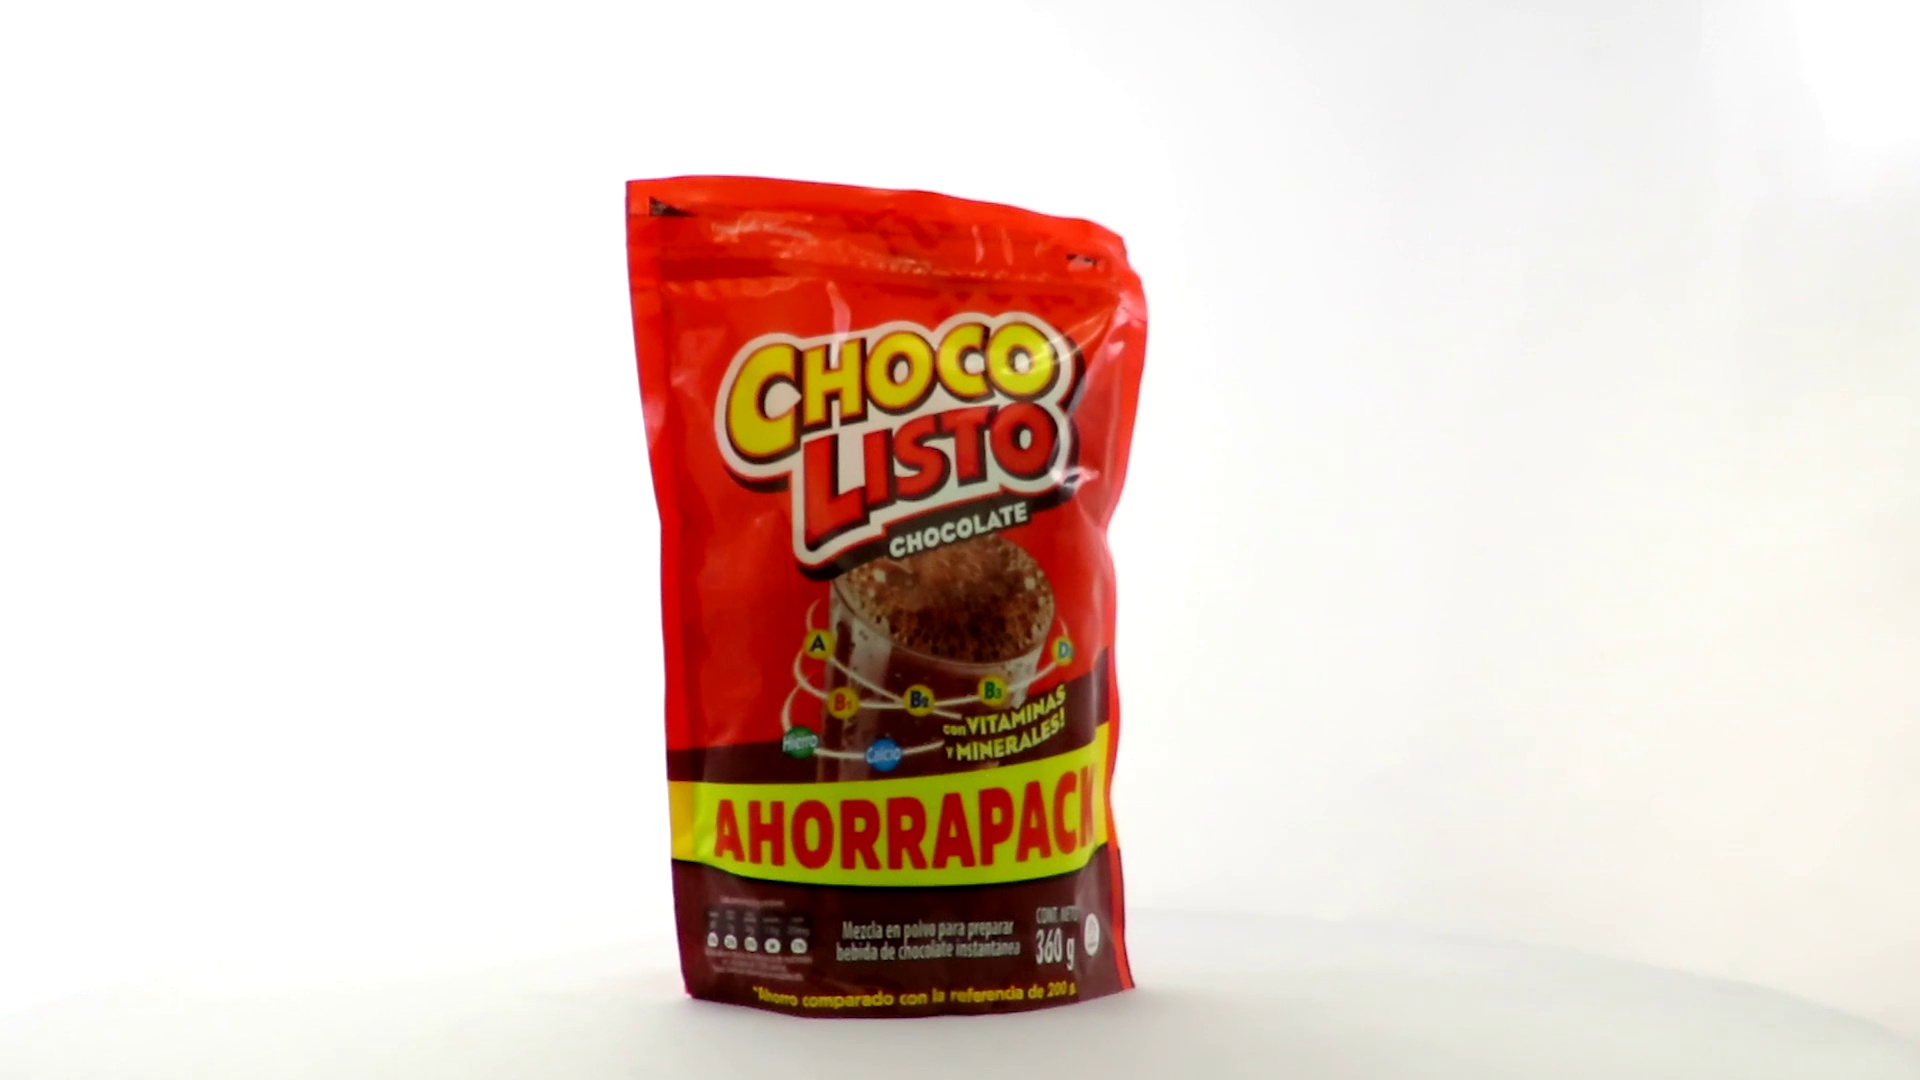COL0170103DYP36000: (620, 170, 1154, 1025)
